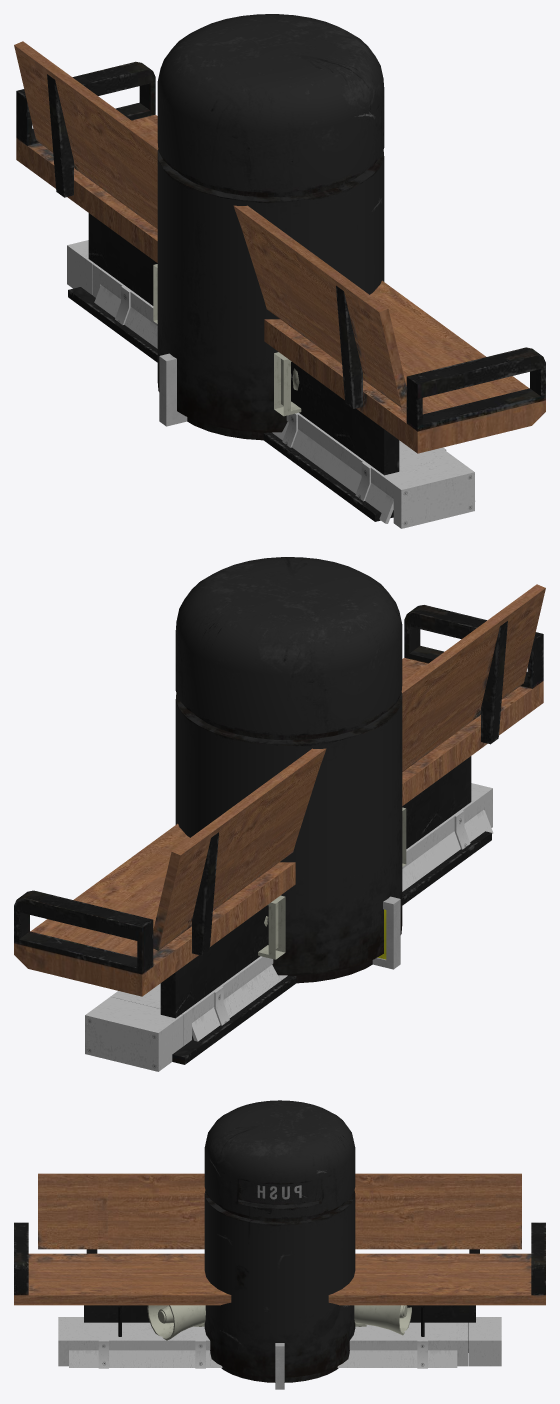
Rendered from props.glb.
3 renders of one model, top to bottom at view 1: azimuth 30°, elevation 25°; view 2: azimuth 150°, elevation 25°; view 3: azimuth 270°, elevation 25°, orthographic. The views are drawn at different scales.
Visible parts, largest first — view 1: prop_bin, prop_bench, prop_lamp, prop_speaker, prop_exitsign; view 2: prop_bin, prop_bench, prop_lamp, prop_speaker, prop_exitsign; view 3: prop_bench, prop_bin, prop_lamp, prop_speaker, prop_exitsign.
Boxes of the visible parts, left/top/right/bottom form: prop_bin: left=157, top=14, right=384, bottom=440; prop_bench: left=14, top=41, right=545, bottom=521; prop_lamp: left=67, top=240, right=475, bottom=528; prop_speaker: left=153, top=264, right=301, bottom=416; prop_exitsign: left=159, top=353, right=187, bottom=426; prop_bin: left=175, top=557, right=402, bottom=983; prop_bench: left=14, top=584, right=545, bottom=1064; prop_lamp: left=85, top=783, right=493, bottom=1071; prop_speaker: left=258, top=807, right=406, bottom=959; prop_exitsign: left=372, top=896, right=400, bottom=969; prop_bench: left=14, top=1173, right=545, bottom=1352; prop_bin: left=204, top=1100, right=355, bottom=1382; prop_lamp: left=58, top=1306, right=501, bottom=1368; prop_speaker: left=147, top=1305, right=411, bottom=1340; prop_exitsign: left=275, top=1343, right=284, bottom=1389.
Size of the model in its own units: 0.7466 by 1.16 by 2.4.
7 materials, 7 textured.
